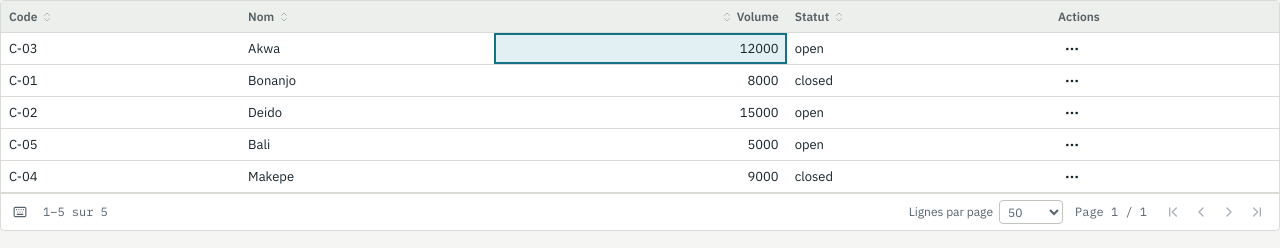
Test: DataTable — clavier › édition : Entrée ouvre, Entrée valide (nombre analysé), Échap annule, validation bloquante
Press Enter
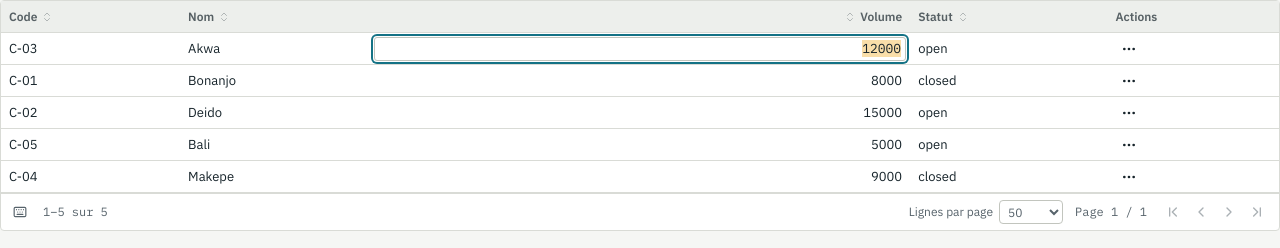
Expected: the field holds "12000"
Replace the text in the field with "13 500,5" at (640, 48), box [374,36,906,60]
Then press Enter
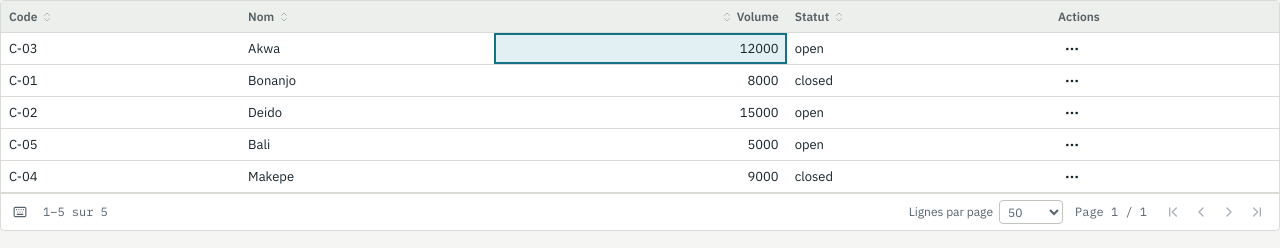
Expected: the field is gone
Press F2
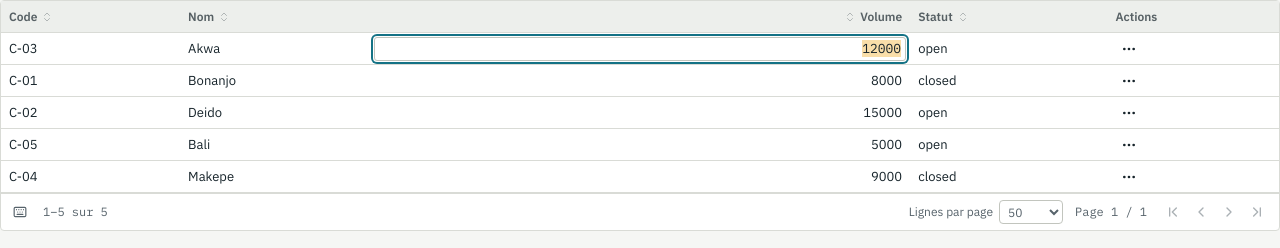
Replace the text in the field with "-4" at (640, 48), box [374,36,906,60]
Then press Enter
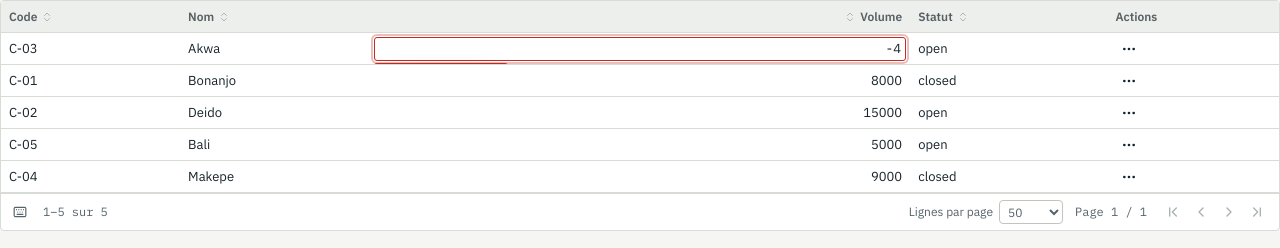
Press Escape
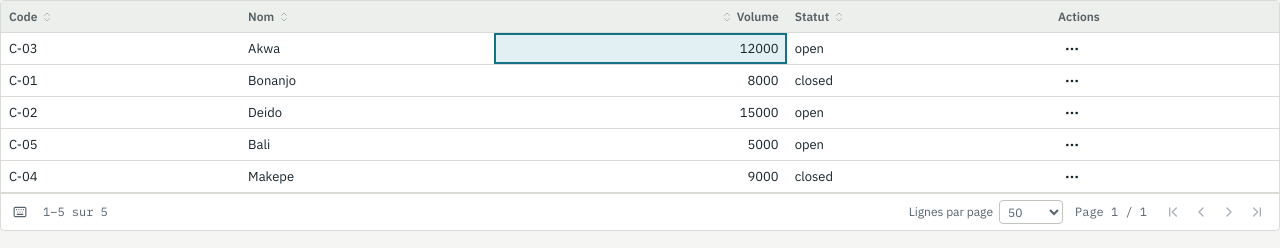
Expected: the field is gone
